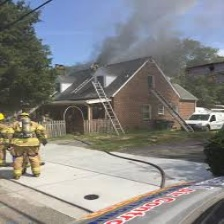smoke: (105, 7, 182, 69)
